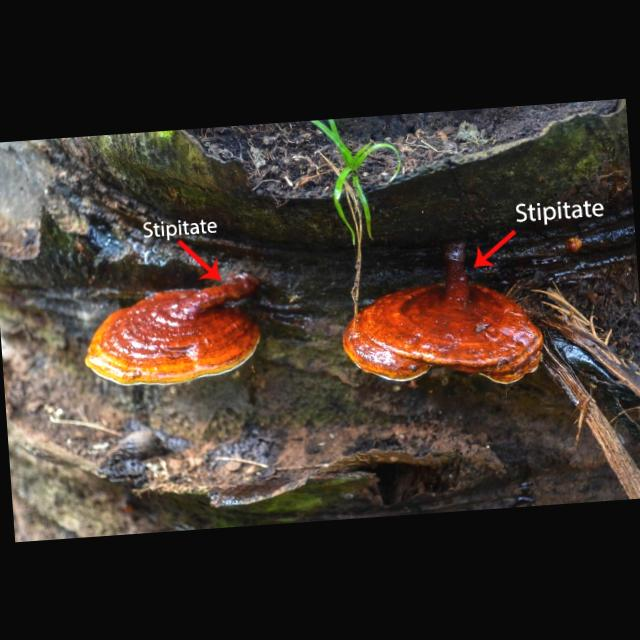ganoderma: (338, 266, 550, 397), (80, 280, 265, 393)
